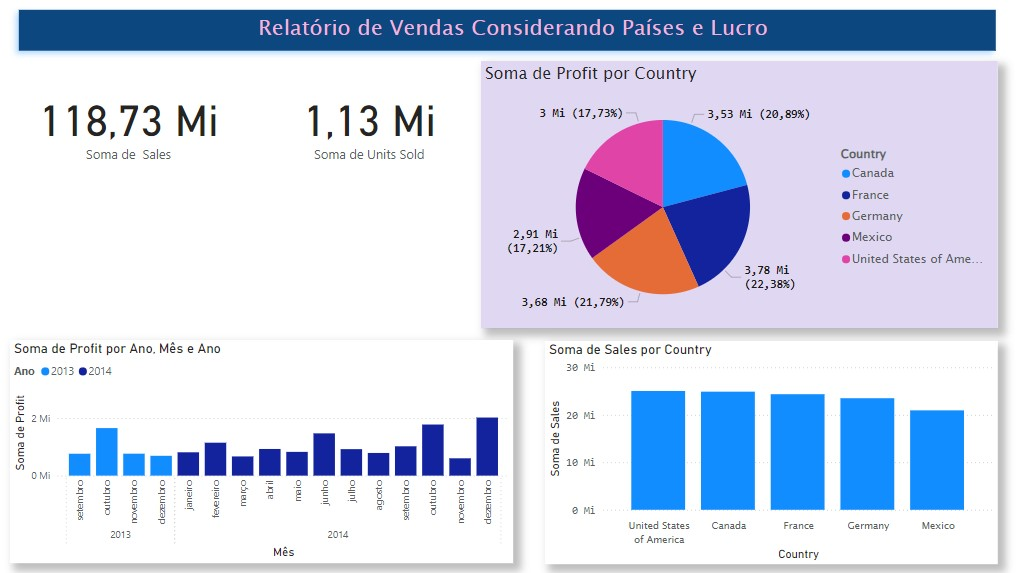

The page's visual inventory and layout, read from the dashboard file:
{"tool":"powerbi","page":{"name":"Página 2","canvas":[1280,720],"ordinal":1},"visuals":[{"type":"shape","box":[14.3,0,1245.7,75.7],"z":0},{"type":"textbox","box":[27.1,10,1232.9,52.9],"z":1000},{"type":"card","fields":{"Values":["Sum(financials. Sales)"]},"box":[14.3,88.6,298.6,131.4],"z":2000},{"type":"card","fields":{"Values":["Sum(financials.Units Sold)"]},"box":[312.9,88.6,302.9,131.4],"z":3000},{"type":"pieChart","fields":{"Y":["Sum(financials.Profit)"],"Series":["financials.Country"]},"box":[604.3,75.7,645.7,334.3],"z":4000},{"type":"columnChart","fields":{"Category":["financials.Date.Variation.Hierarquia de datas.Ano","financials.Date.Variation.Hierarquia de datas.Mês"],"Y":["Sum(financials.Profit)"],"Series":["financials.Date.Variation.Hierarquia de datas.Ano"]},"box":[14.4,425.6,628.9,278.9],"z":5000},{"type":"columnChart","fields":{"Category":["financials.Country"],"Y":["Sum(financials. Sales)"]},"box":[684,426,566,279],"z":6000}]}

Visuals, with their boxes in screenshot pixels (x1, y1, x2, y2), scaled from the page's 1280x720 canvas onto the 1020x573 screenshot:
shape: box(11, 0, 1004, 60)
textbox: box(22, 8, 1004, 50)
card - Sum(financials. Sales): box(11, 71, 249, 175)
card - Sum(financials.Units Sold): box(249, 71, 491, 175)
pieChart - Sum(financials.Profit) x financials.Country: box(482, 60, 996, 326)
columnChart - financials.Date.Variation.Hierarquia de datas.Ano x financials.Date.Variation.Hierarquia de datas.Mês: box(11, 339, 513, 561)
columnChart - financials.Country x Sum(financials. Sales): box(545, 339, 996, 561)
